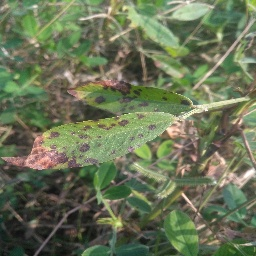GroundNut_Leaf: (25, 111, 176, 175), (58, 83, 193, 111), (162, 211, 203, 254), (139, 14, 179, 49), (128, 196, 153, 215)
